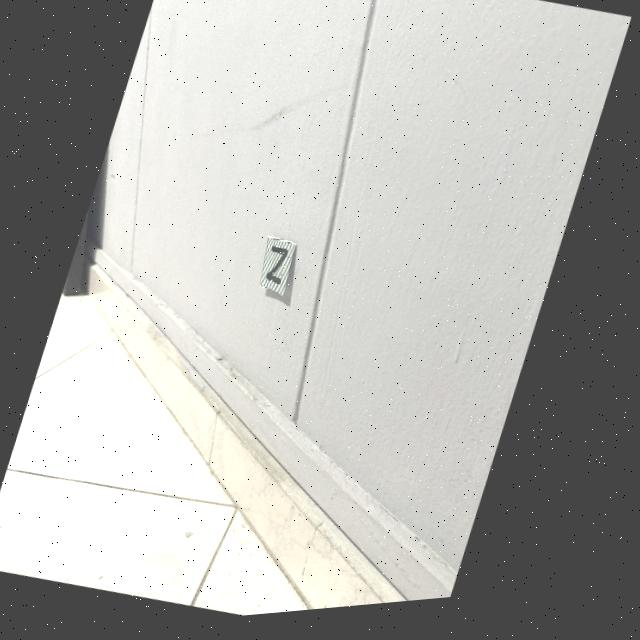Z: (269, 251, 291, 290)
